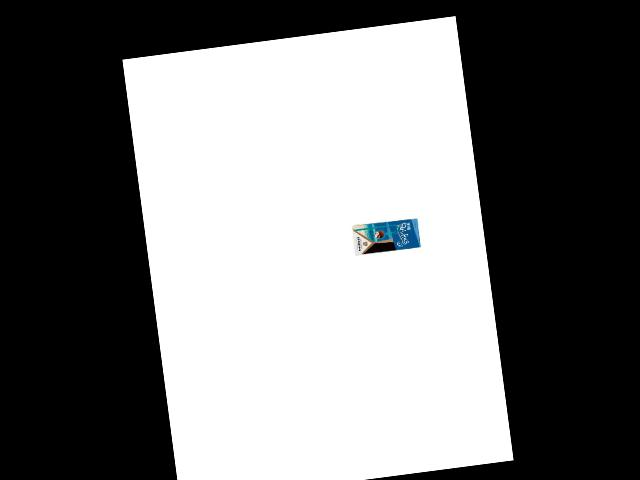chocolate: (349, 216, 422, 257)
